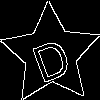D: (26, 29, 74, 84)
